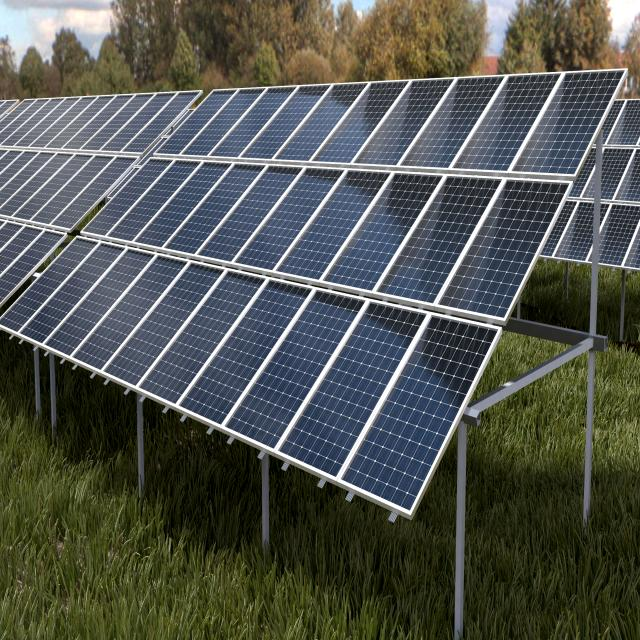crack: (219, 314, 354, 462), (442, 200, 548, 337), (322, 346, 408, 462), (292, 202, 390, 290), (238, 166, 314, 258)
